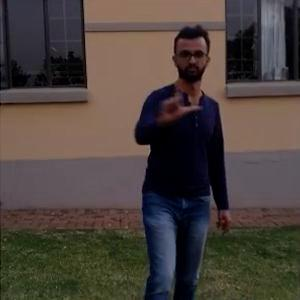land_hand: (151, 72, 205, 130)
